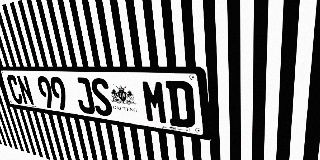9: (48, 76, 70, 111), (36, 76, 56, 109)
C: (6, 75, 24, 104)
D: (165, 80, 196, 129)
J: (73, 77, 96, 115)
M: (141, 79, 169, 125)
N: (16, 75, 35, 106)
S: (89, 78, 114, 117)
